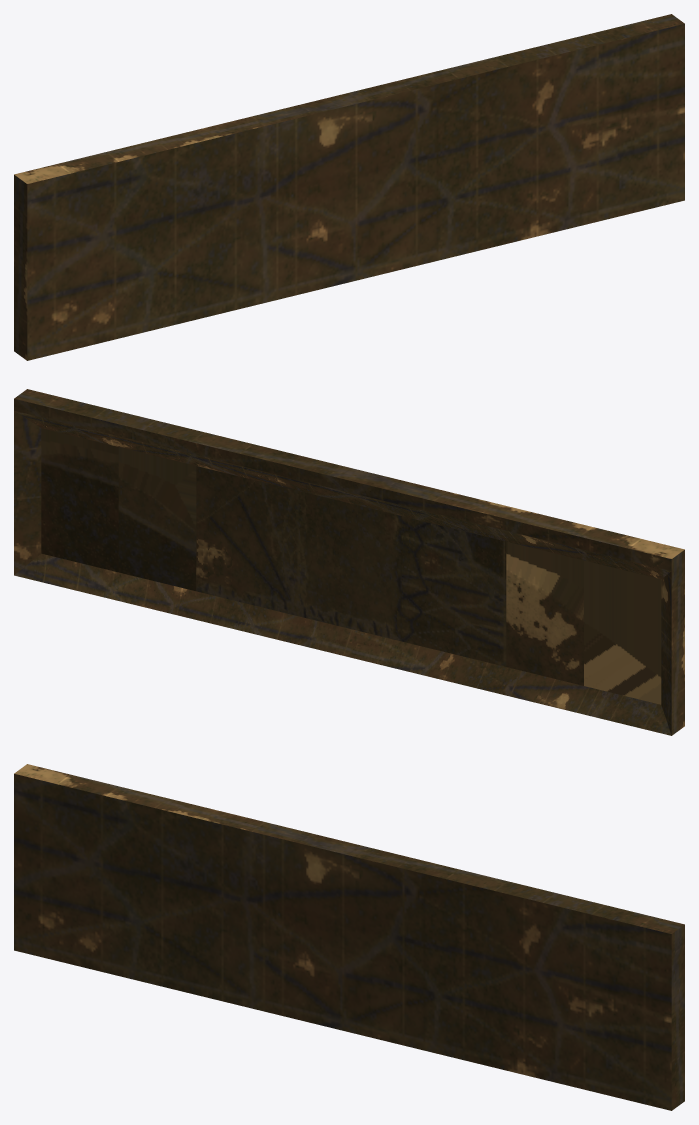
The model's file is platformPrefab-SideEnd.fbx.
3 views of the same model, one above another, from view 1: azimuth 30°, elevation 25°; view 2: azimuth 150°, elevation 25°; view 3: azimuth 330°, elevation 25° (orthographic).
Parts seen in each view (by area): view 1: Cube; view 2: Cube; view 3: Cube.
Part boxes in pixels (box(x1,y1,x2,y2)): Cube: box(14, 14, 684, 360); Cube: box(14, 389, 684, 735); Cube: box(14, 764, 684, 1110).
Size of the model in its own units: 186 by 47.7 by 6.49.
